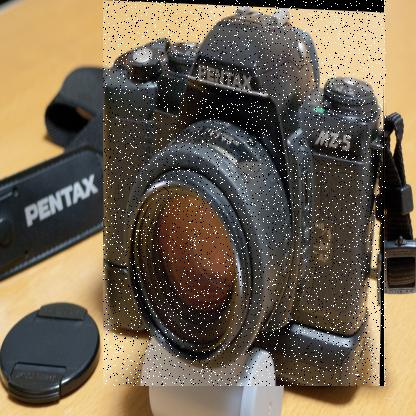Camera: (105, 1, 389, 388)
